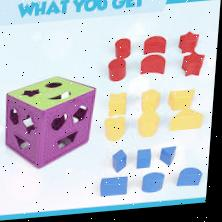cube: (3, 76, 97, 173)
